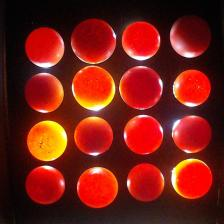fertile: (71, 18, 116, 64), (119, 66, 163, 110), (170, 15, 211, 58), (25, 166, 65, 206), (25, 72, 64, 112), (74, 116, 113, 155), (172, 115, 212, 153), (126, 163, 164, 202)
infertile: (72, 66, 116, 110), (171, 157, 213, 200), (77, 167, 118, 209), (27, 120, 68, 161), (25, 26, 64, 68), (124, 115, 164, 155), (173, 69, 211, 108), (122, 20, 160, 59)
